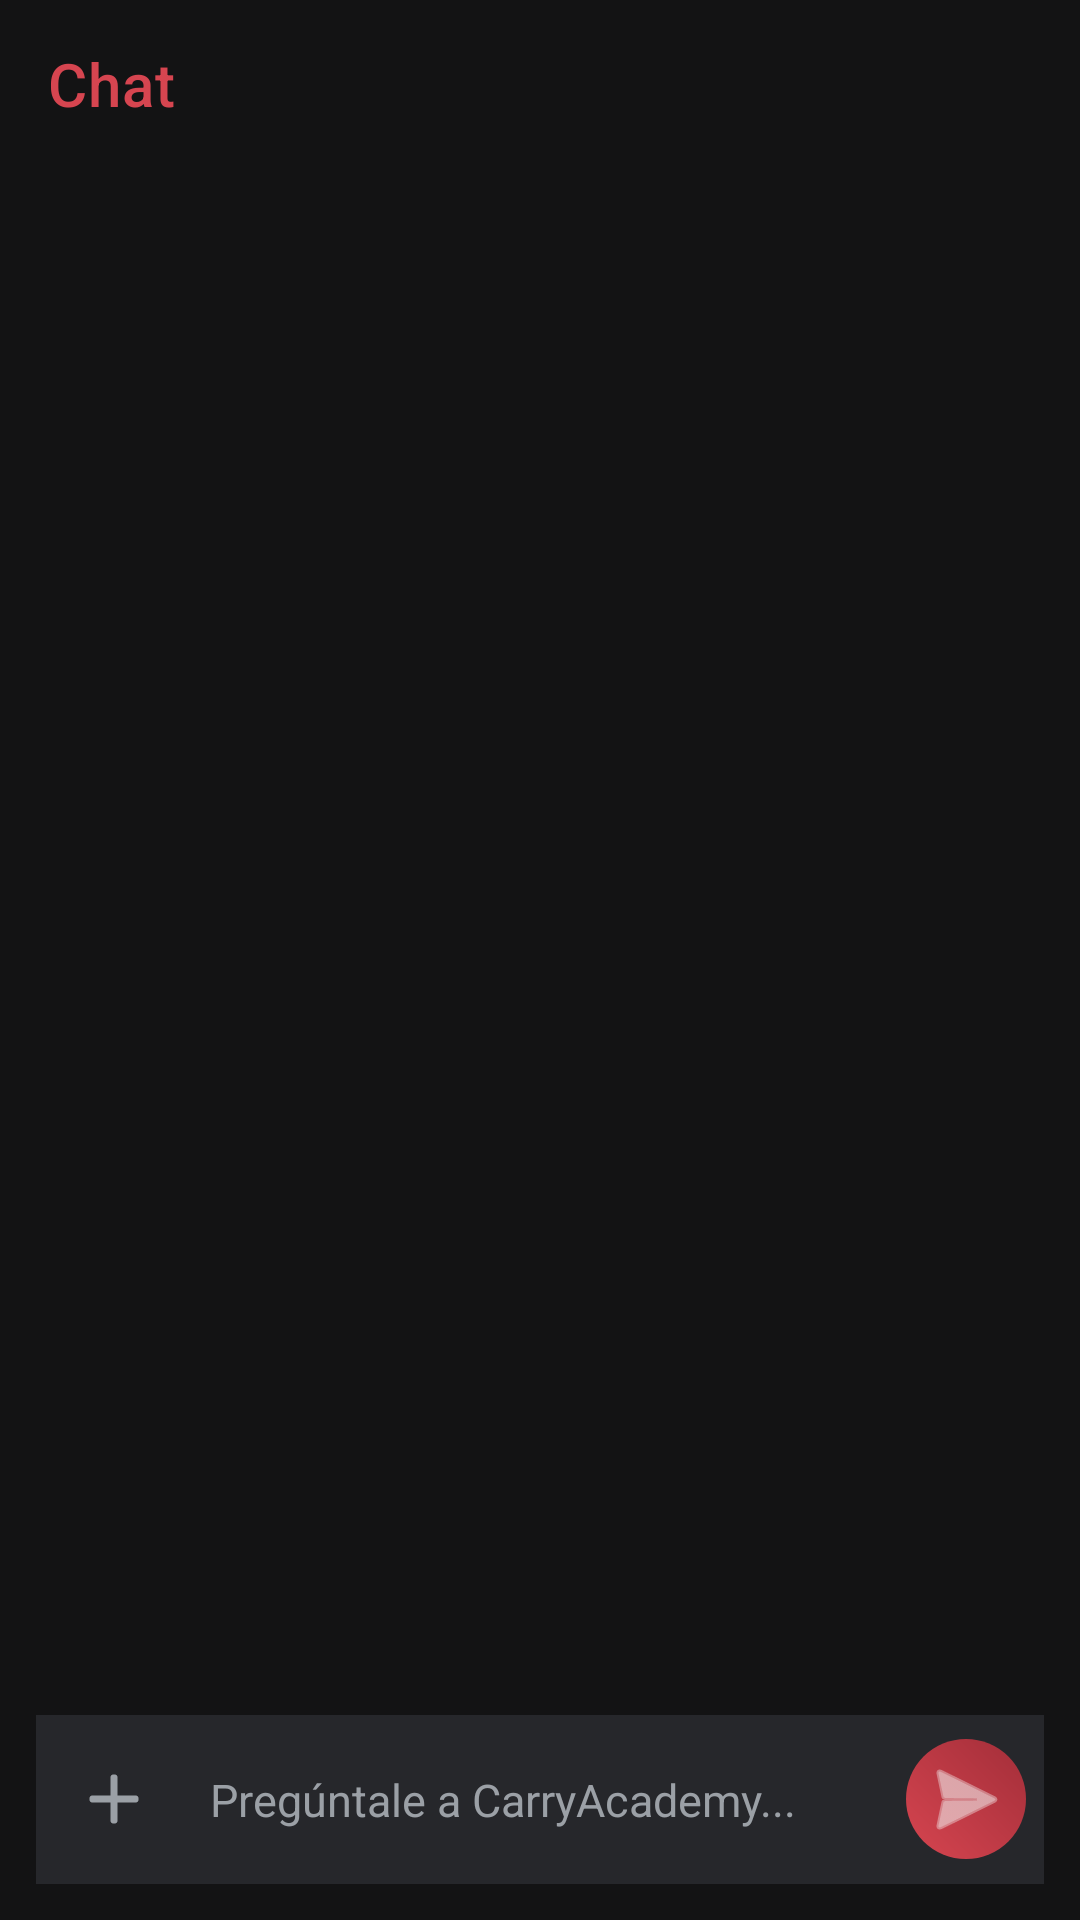

Icon bounding boxes for this 1080x1920 phone screenshot, format (x1, y1, x2, y2):
Adjuntar: (89, 1774, 139, 1824)
Enviar: (906, 1739, 1026, 1859)
